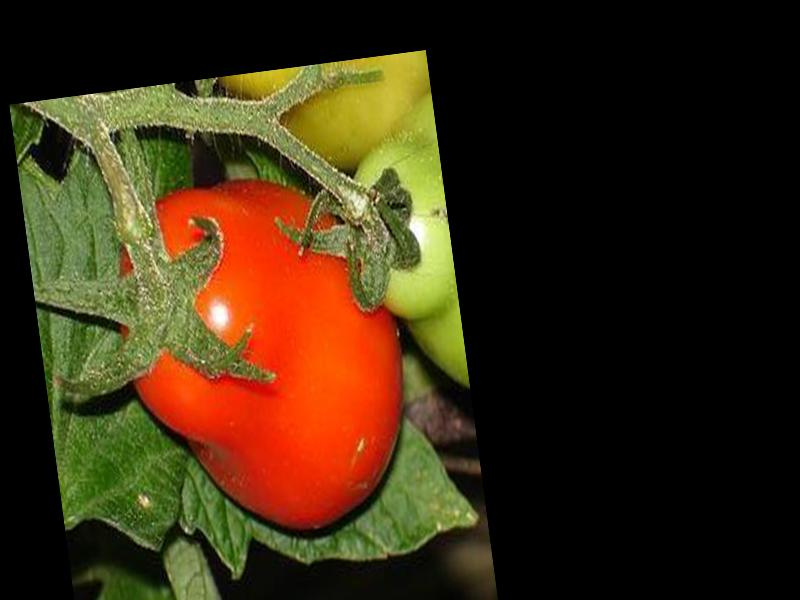Tomato: (104, 165, 421, 551)
